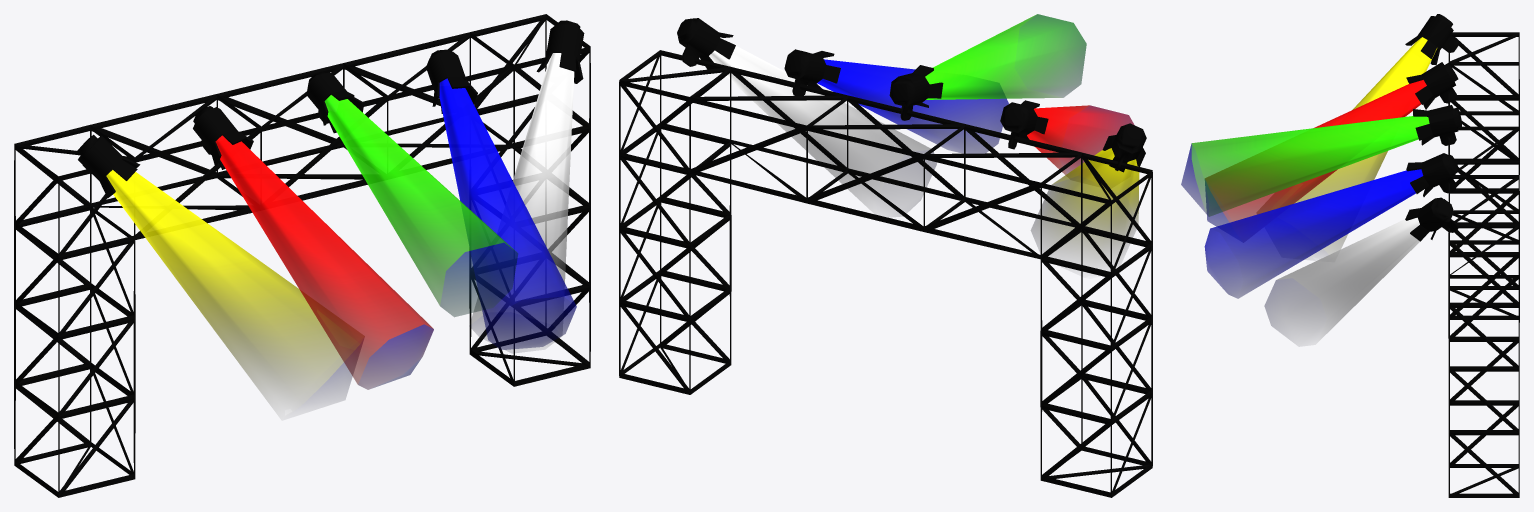
The model's file is StageTrussDarkLightingOn.glb.
The picture shows the model from 3 angles, left to right: view 1: azimuth 30°, elevation 25°; view 2: azimuth 150°, elevation 25°; view 3: azimuth 270°, elevation 25°; orthographic projection. The views are drawn at different scales.
Visible parts, largest first — view 1: StageTrussDarkLightingOn; view 2: StageTrussDarkLightingOn; view 3: StageTrussDarkLightingOn.
Boxes of the visible parts, bbox=[...] form: StageTrussDarkLightingOn: bbox=[14, 14, 590, 497]; StageTrussDarkLightingOn: bbox=[619, 14, 1152, 497]; StageTrussDarkLightingOn: bbox=[1181, 14, 1519, 497].
Size of the model in its own units: 14.03 by 9.03 by 9.66.
2 materials, 2 textured.
